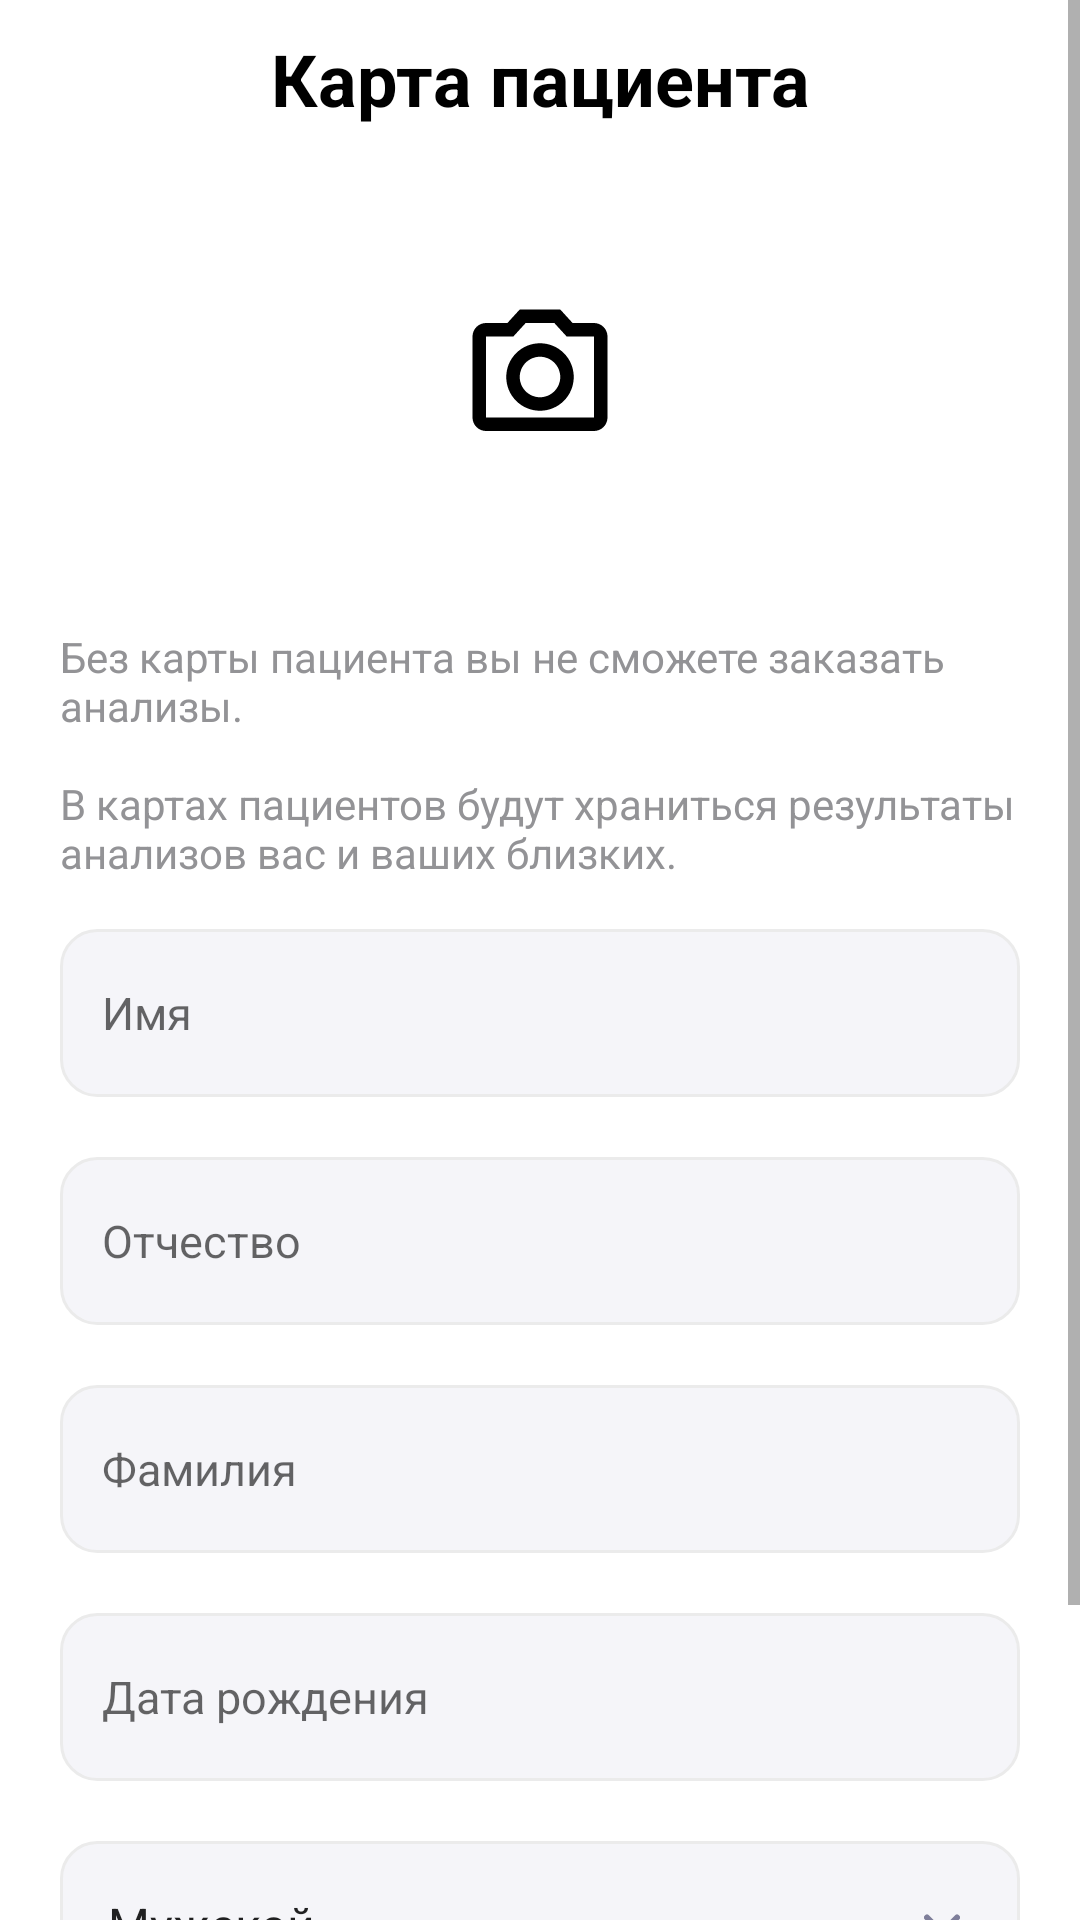

Locate icon controls on the screen. Image size 1080*1920, boxes as {"x1": x1, "y1": y1, "x2": x2, "y2": y2}.
camera: {"x1": 472, "y1": 309, "x2": 608, "y2": 431}
